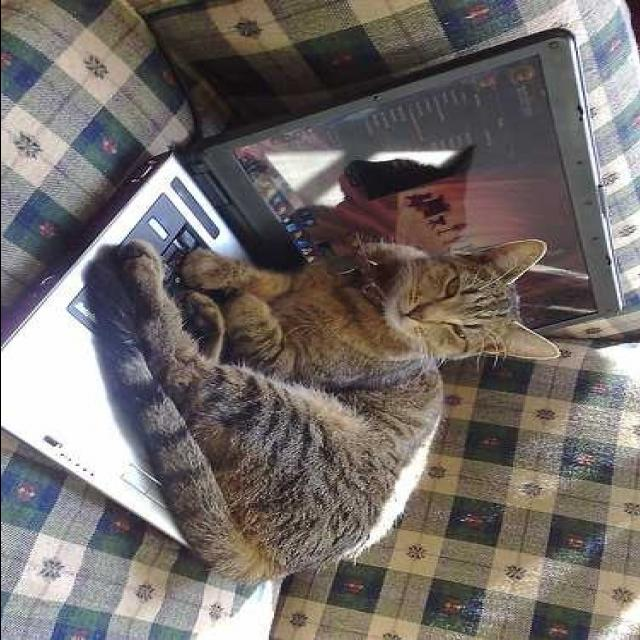laptop: (13, 58, 580, 550)
